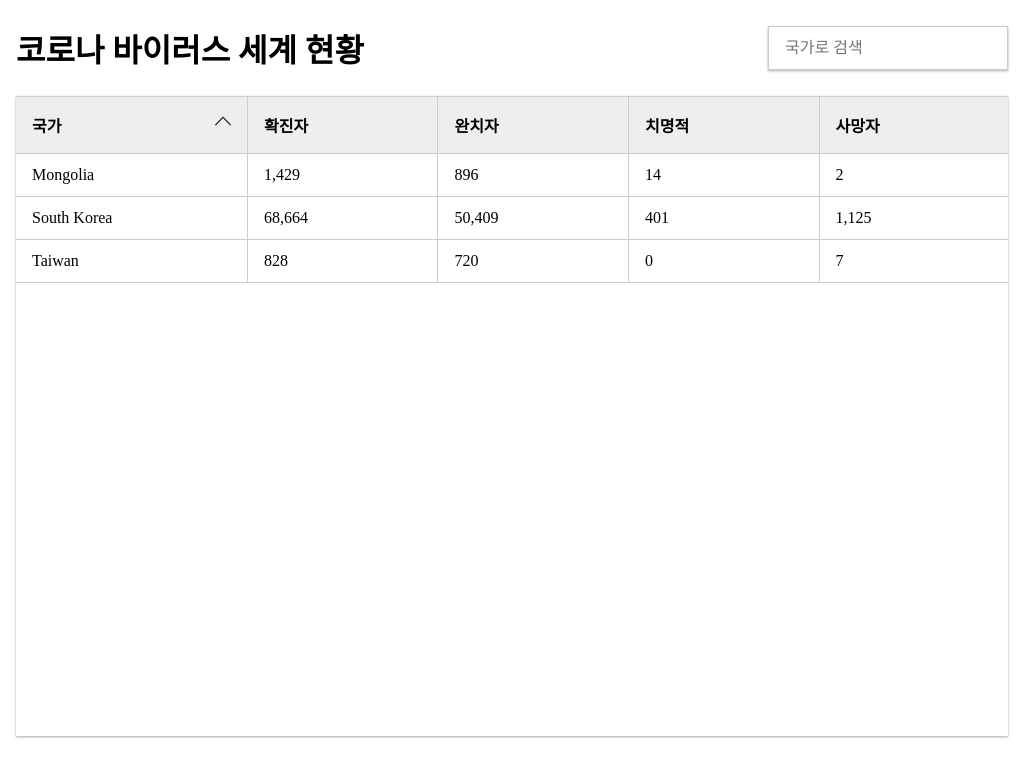
Test: <CovidStatistics /> › with data › filters data when search field receives a value (South Korea)
// Enter search keyword 'K'
Type "K" into the search field with placeholder "국가로 검색" at point(888, 48), box [768,26,1008,70]
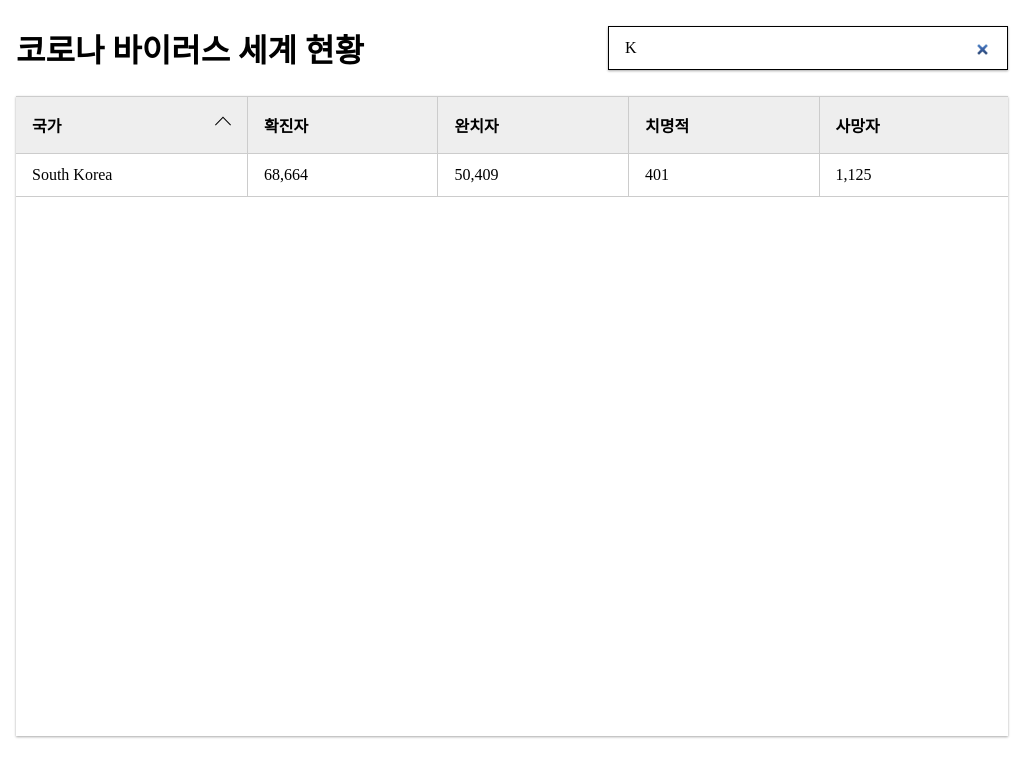
Expected: the text "Mongolia" is gone
